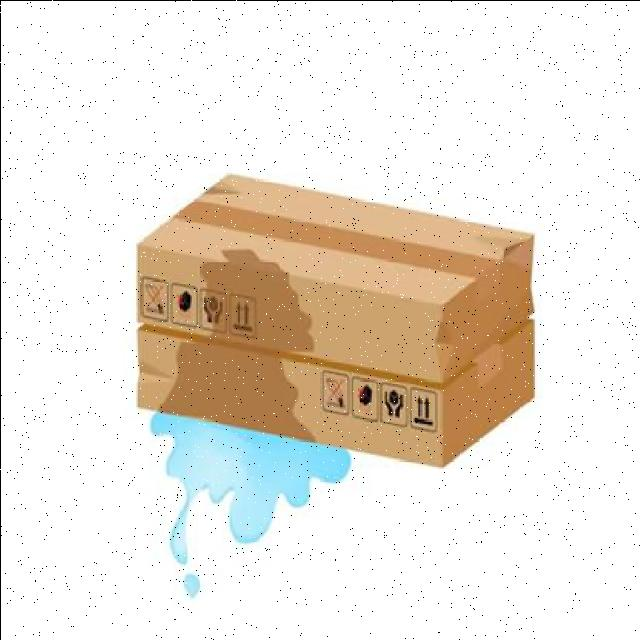defect: (134, 170, 538, 382), (130, 316, 538, 472)
